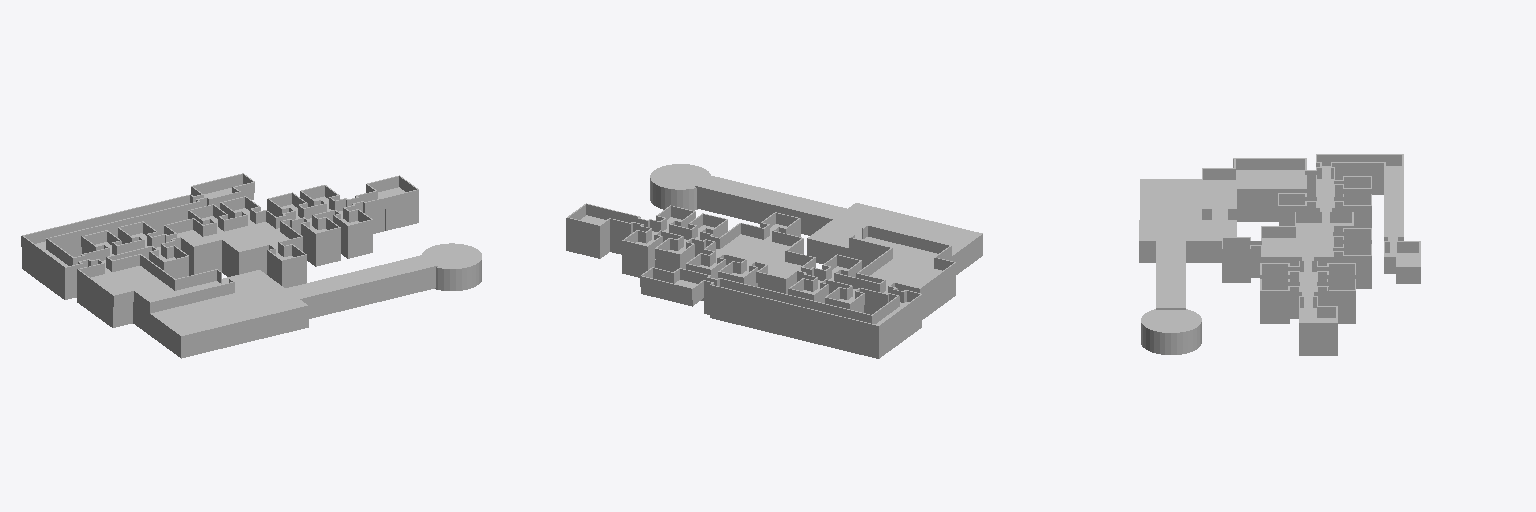
Rendered from Mapa1Definitivo.obj.
The picture shows the model from 3 angles: view 1: azimuth 30°, elevation 25°; view 2: azimuth 150°, elevation 25°; view 3: azimuth 270°, elevation 25°; orthographic projection.
Visible parts, largest first — view 1: Cube.039_Cube.041, Cube.041_Cube.042, Cube.040, Cube.037, Cylinder, Cube.013, Cube.165_Cube.167, Cube.166_Cube.168, Cube.032, Cube.179_Cube.181, Cube, Cube.014 (+7 smaller); view 2: Cube.041_Cube.042, Cube.033, Cube.040, Cube.039_Cube.041, Cylinder, Cube.165_Cube.167, Cube.037, Cube.013, Cube.166_Cube.168, Cube, Cube.038, Cube.179_Cube.181 (+3 smaller); view 3: Cube.040, Cube.039_Cube.041, Cylinder, Cube.037, Cube.041_Cube.042, Cube.013, Cube.033, Cube.038, Cube, Cube.183_Cube.185, Cube.161_Cube.163, Cube.012 (+5 smaller).
Boxes of the visible parts, box(x1,y1,x2,y2) form: Cube.039_Cube.041: box(149, 293, 265, 358); Cube.041_Cube.042: box(285, 255, 437, 318); Cube.040: box(222, 270, 308, 337); Cube.037: box(77, 266, 173, 327); Cylinder: box(422, 243, 481, 290); Cube.013: box(204, 222, 302, 276); Cube.165_Cube.167: box(21, 194, 190, 246); Cube.166_Cube.168: box(46, 201, 200, 246); Cube.032: box(31, 249, 76, 299); Cube.179_Cube.181: box(149, 282, 234, 313); Cube: box(378, 187, 418, 230); Cube.014: box(177, 230, 221, 275); Cube.041_Cube.042: box(695, 175, 846, 235); Cube.033: box(710, 296, 887, 358); Cube.040: box(807, 203, 897, 263); Cube.039_Cube.041: box(879, 213, 982, 274); Cylinder: box(650, 164, 710, 210); Cube.165_Cube.167: box(709, 284, 879, 336); Cube.037: box(870, 259, 955, 319); Cube.013: box(716, 234, 803, 273); Cube.166_Cube.168: box(720, 278, 871, 323); Cube: box(566, 215, 609, 258); Cube.038: box(850, 237, 950, 268); Cube.179_Cube.181: box(868, 225, 951, 256); Cube.040: box(1139, 220, 1236, 262); Cube.039_Cube.041: box(1140, 179, 1201, 219); Cylinder: box(1141, 309, 1201, 354); Cube.037: box(1236, 170, 1304, 221); Cube.041_Cube.042: box(1156, 241, 1185, 309); Cube.013: box(1262, 237, 1332, 267); Cube.033: box(1386, 166, 1401, 247); Cube.038: box(1203, 180, 1235, 219); Cube: box(1299, 317, 1337, 355); Cube.183_Cube.185: box(1233, 158, 1306, 169); Cube.161_Cube.163: box(1317, 154, 1401, 165); Cube.012: box(1260, 290, 1289, 323).
Size of the model in its own units: 1630 by 156 by 1149.